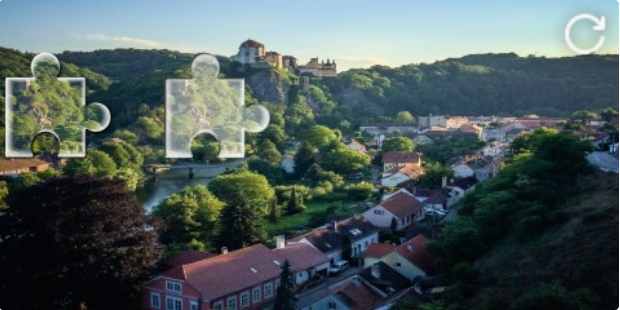target: (165, 54, 269, 158)
